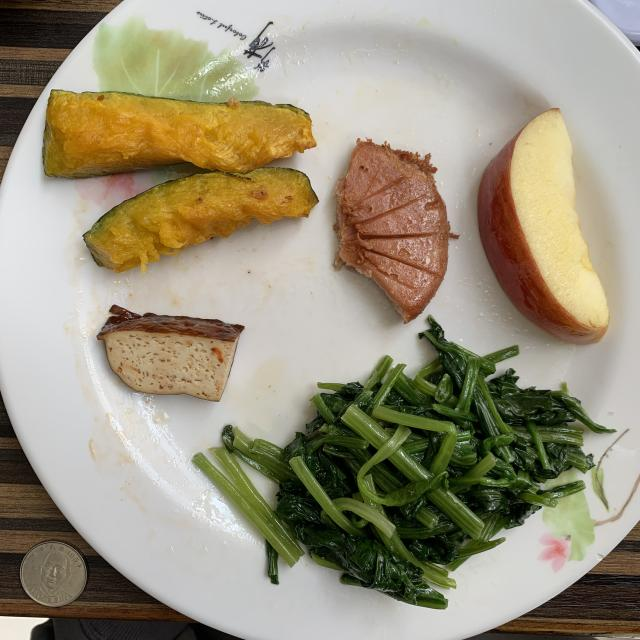Spam: (335, 140, 450, 322)
apple -sliced-: (478, 109, 609, 344)
coin: (20, 541, 88, 608)
firm tofu: (98, 305, 244, 401)
mustard greens: (192, 316, 611, 609)
pumpkin: (42, 90, 318, 271)
